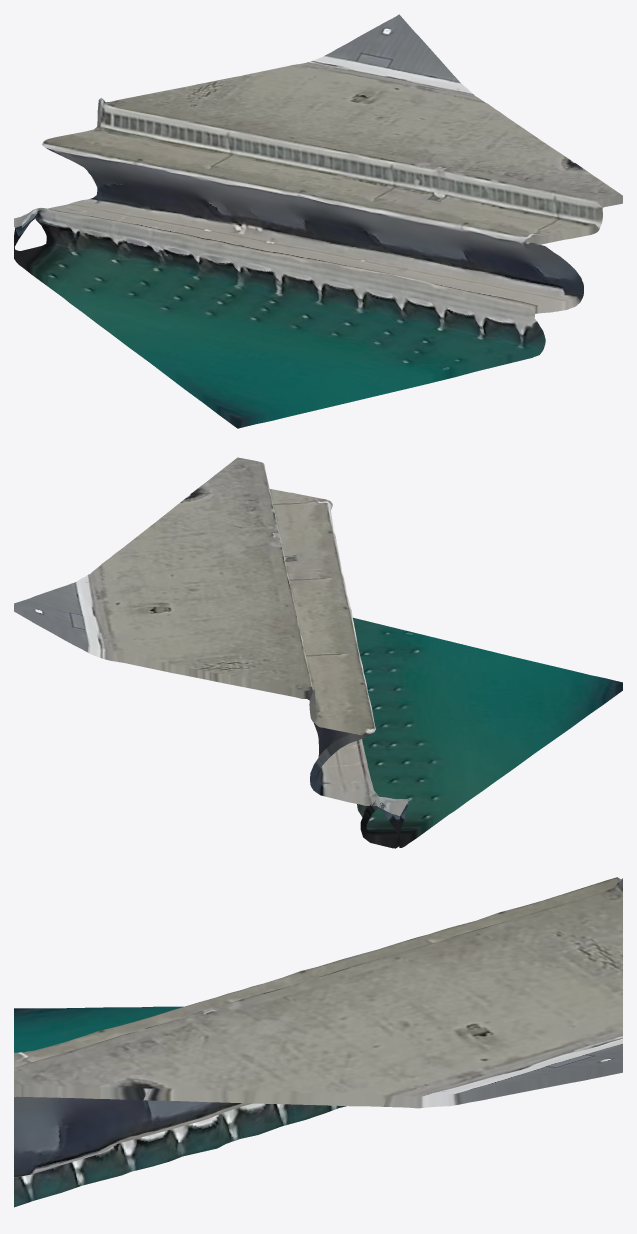
Rendered from z20-167775-405198-h0-yup-uvflip-v3-world.glb.
The picture shows the model from 3 angles, top to bottom: view 1: azimuth 30°, elevation 25°; view 2: azimuth 150°, elevation 25°; view 3: azimuth 270°, elevation 25°; orthographic projection. The views are drawn at different scales.
Bounding box in the file's own units: 30.16 × 11.84 × 30.32.
1 material, 1 textured.
